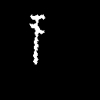double_crochet: (30, 15, 44, 63)
